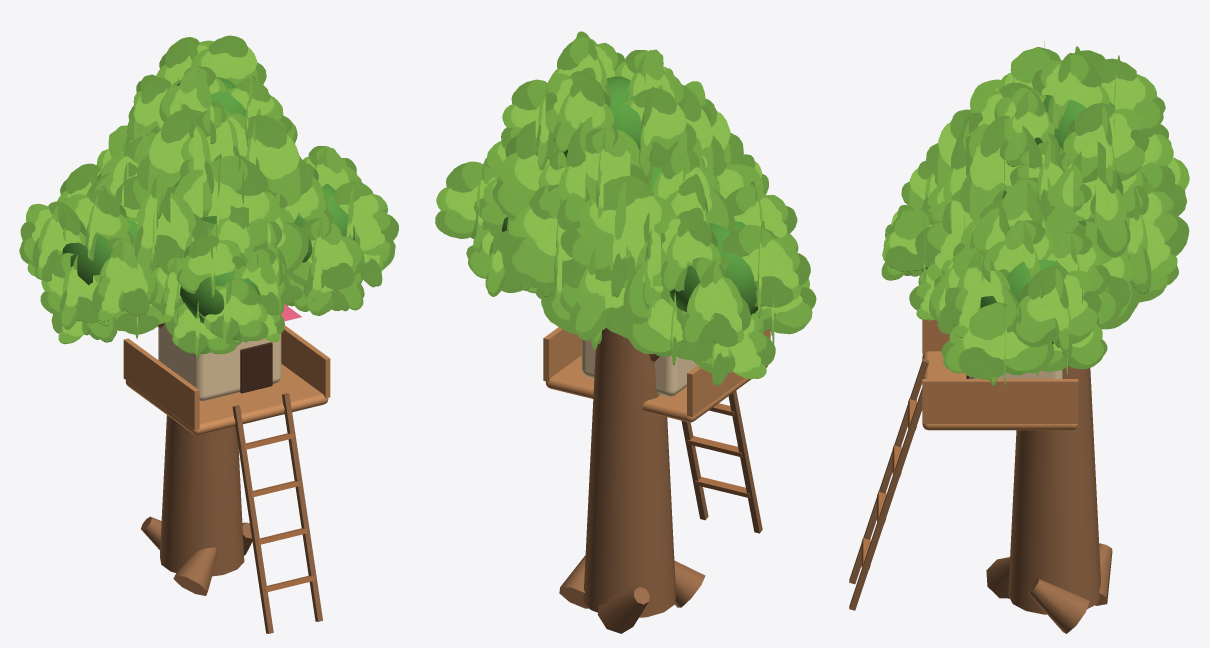
The model's file is swingtree-treehouse.glb.
The picture shows the model from 3 angles, left to right: view 1: azimuth 30°, elevation 25°; view 2: azimuth 150°, elevation 25°; view 3: azimuth 270°, elevation 25°; orthographic projection. The views are drawn at different scales.
Bounding box in the file's own units: 2.82 × 4.09 × 2.22.
Materials: 20 (1 with a texture image).
